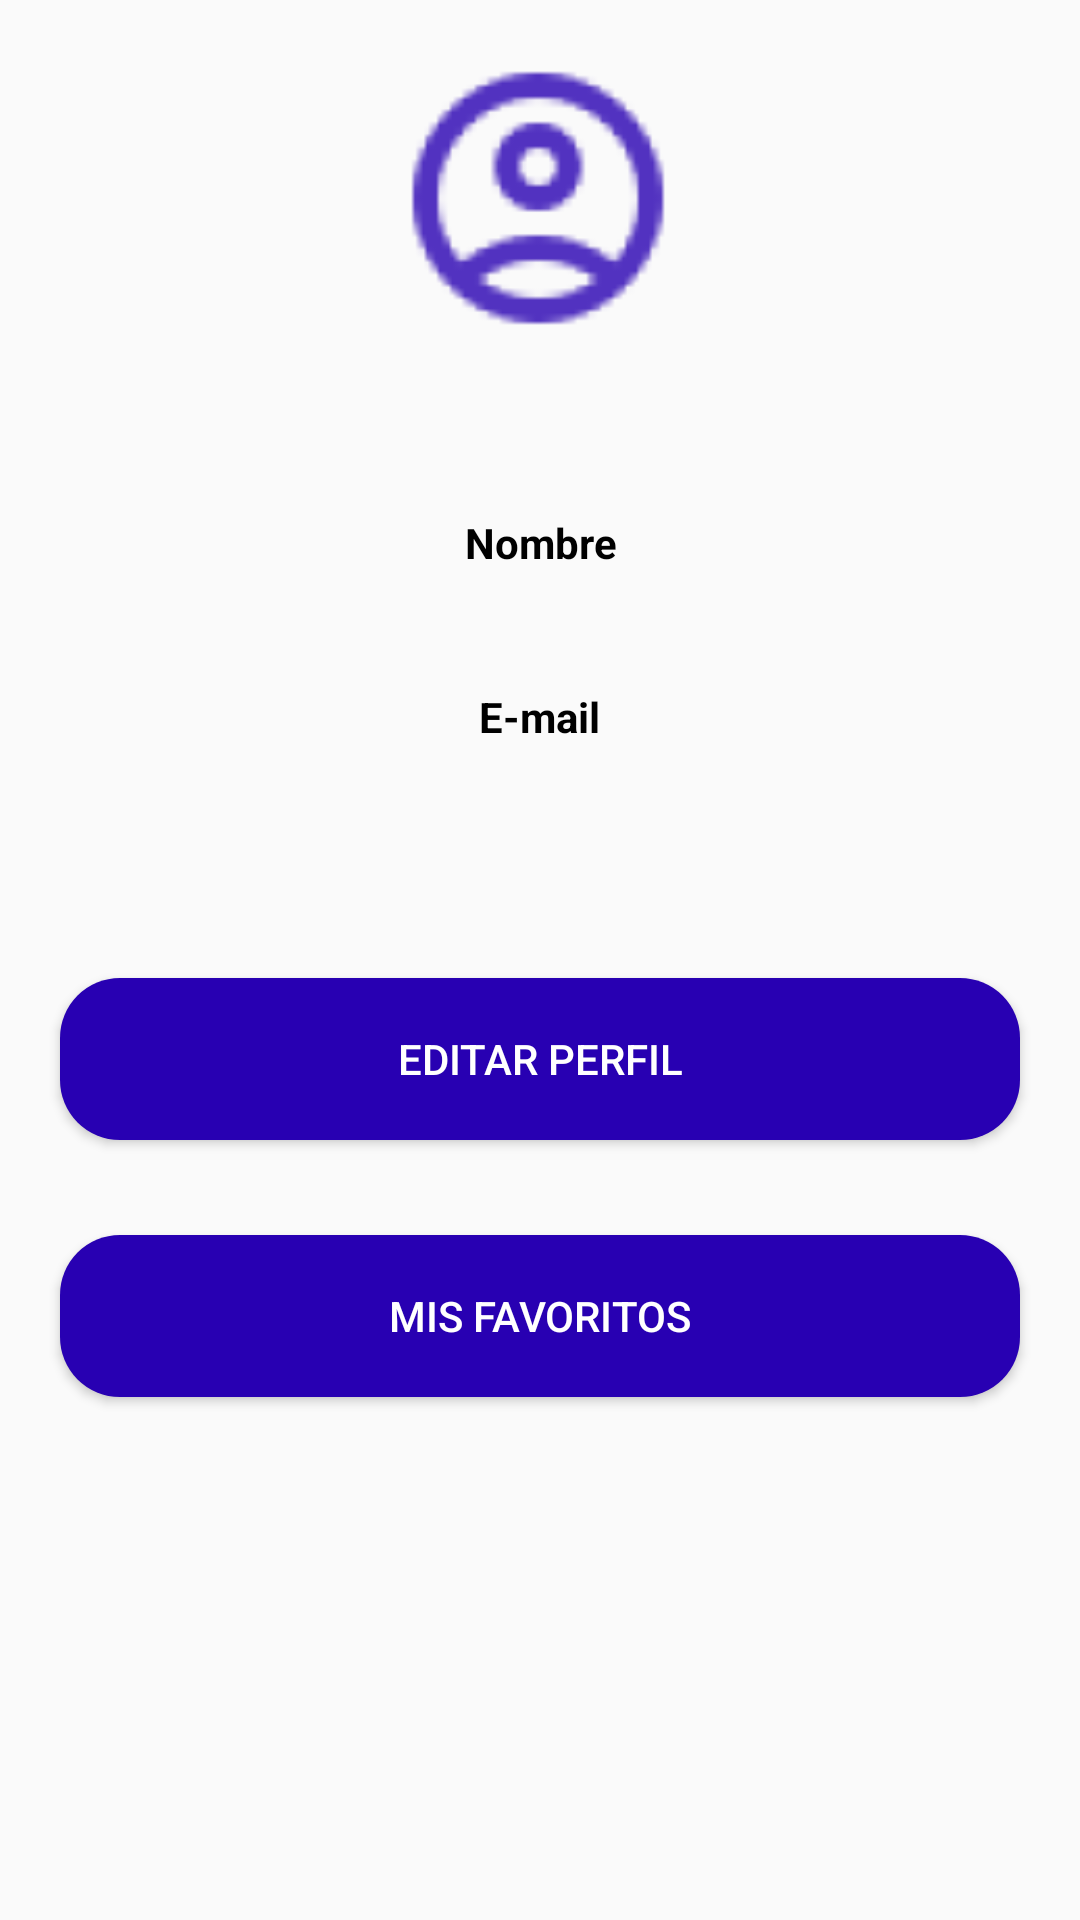

Point at icon controls on the screen. Image size 1080×1920, points as point (x, y).
Imágen de Perfil: point (538, 198)
